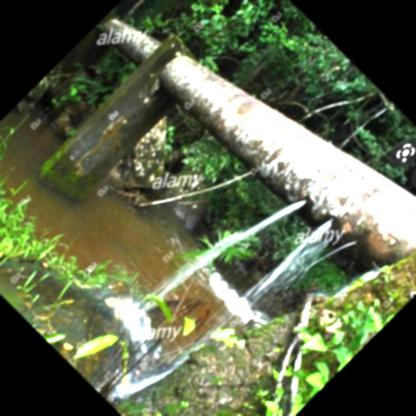burst: (275, 192, 366, 253)
